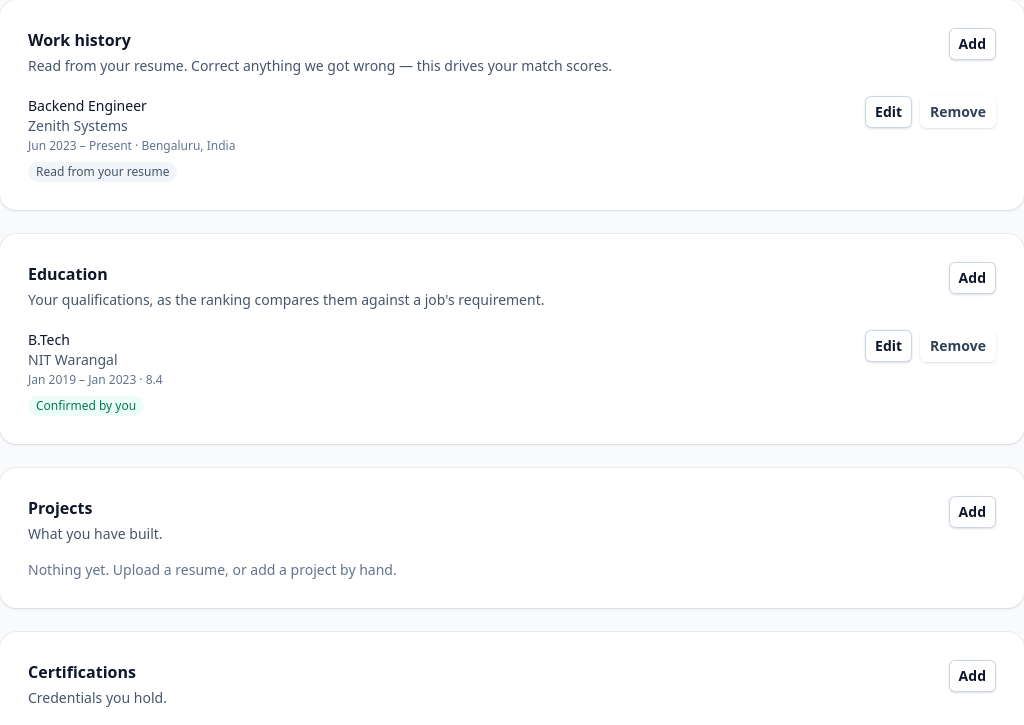
Test: CareerProfile › editing › sends only what changed
Check: the text "Backend Engineer" is shown, box [28,96,147,115]
Step 1. Click the button "Edit" in the row of "Backend Engineer" → (889, 112), box [865,96,912,128]
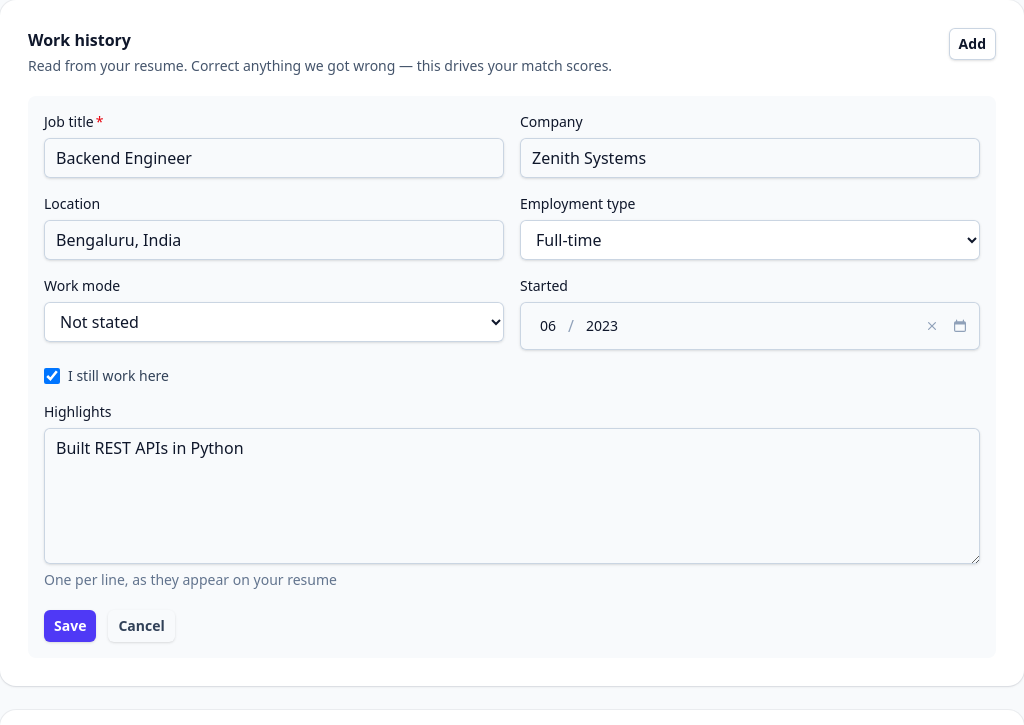
Step 2. Replace the text in the field labelled "Company" with "Zenith Systems Pvt Ltd" → (750, 158), box [520,138,980,178]
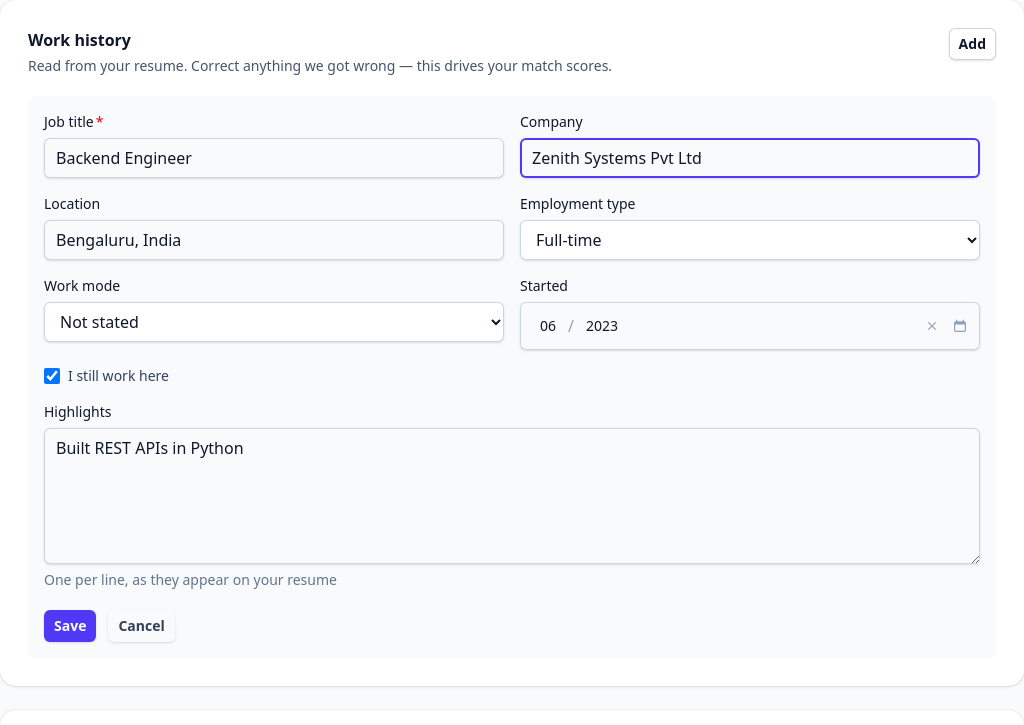
Step 3. Click the button "Save" → (70, 626), box [44,610,96,642]
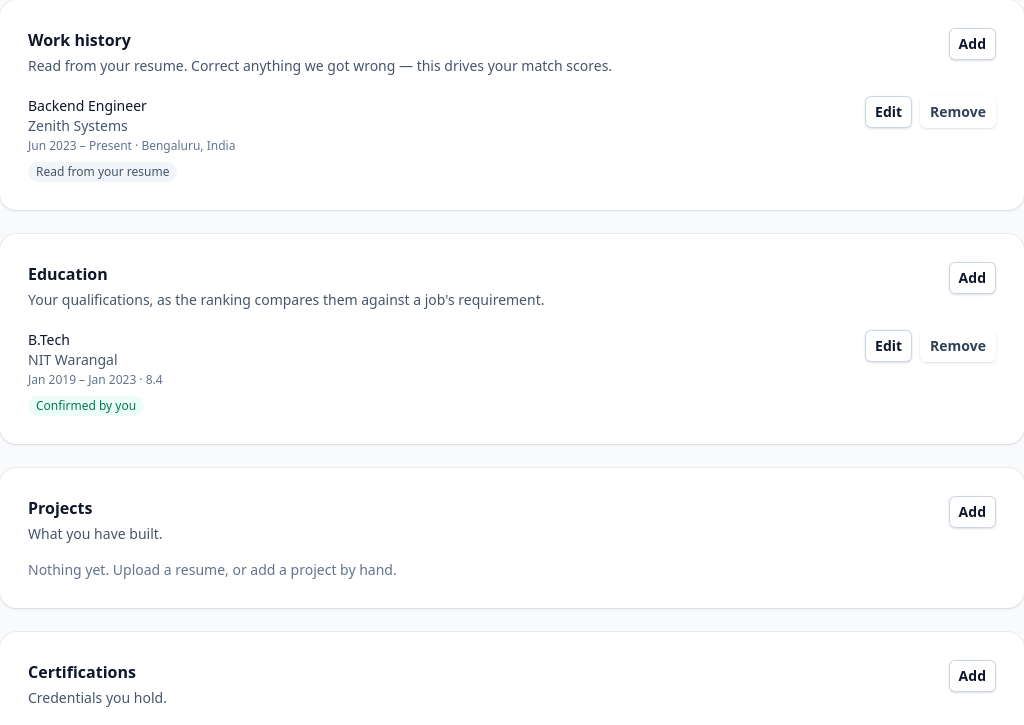
Check: the text "Backend Engineer" is shown, box [28,96,147,115]
